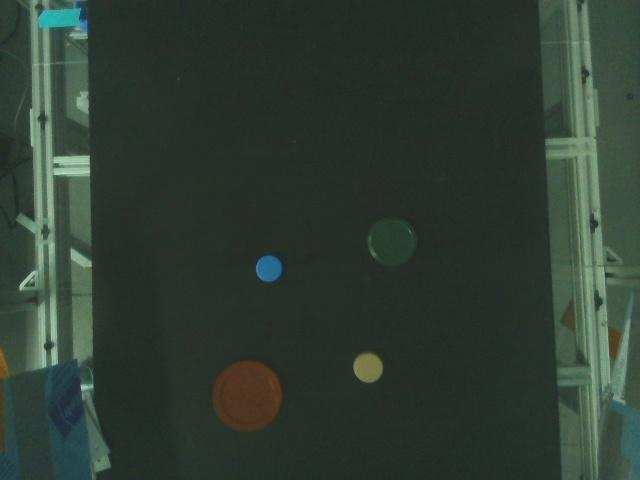metal: (367, 217, 417, 269)
plastic: (213, 359, 283, 432), (353, 352, 383, 384), (255, 254, 283, 283)
